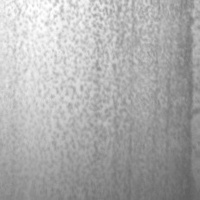pitted_surface: (0, 0, 194, 198)
